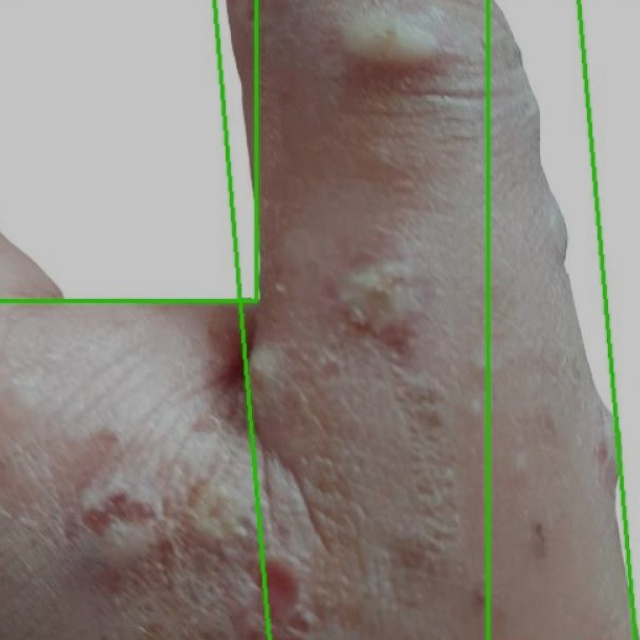Scabies: (215, 0, 635, 639), (488, 0, 639, 639), (0, 0, 256, 300)
